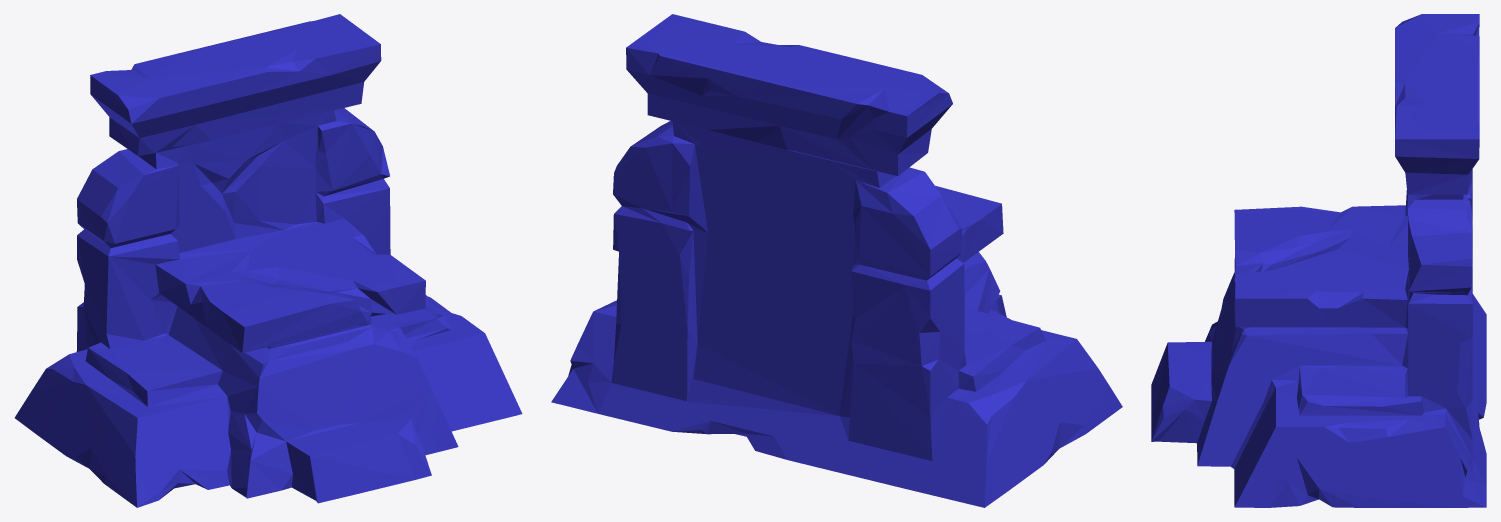
The model's file is altar.obj.
3 views of the same model, side by side, from view 1: azimuth 30°, elevation 25°; view 2: azimuth 150°, elevation 25°; view 3: azimuth 270°, elevation 25° (orthographic). The views are drawn at different scales.
Visible parts, largest first — view 1: Altar_SM_Env_Alter_01; view 2: Altar_SM_Env_Alter_01; view 3: Altar_SM_Env_Alter_01.
Boxes of the visible parts, <box> form: Altar_SM_Env_Alter_01: <box>14,14,522,507</box>; Altar_SM_Env_Alter_01: <box>551,14,1122,507</box>; Altar_SM_Env_Alter_01: <box>1151,14,1486,507</box>.
Bounding box in the file's own units: 3.36 × 2.74 × 2.47.
